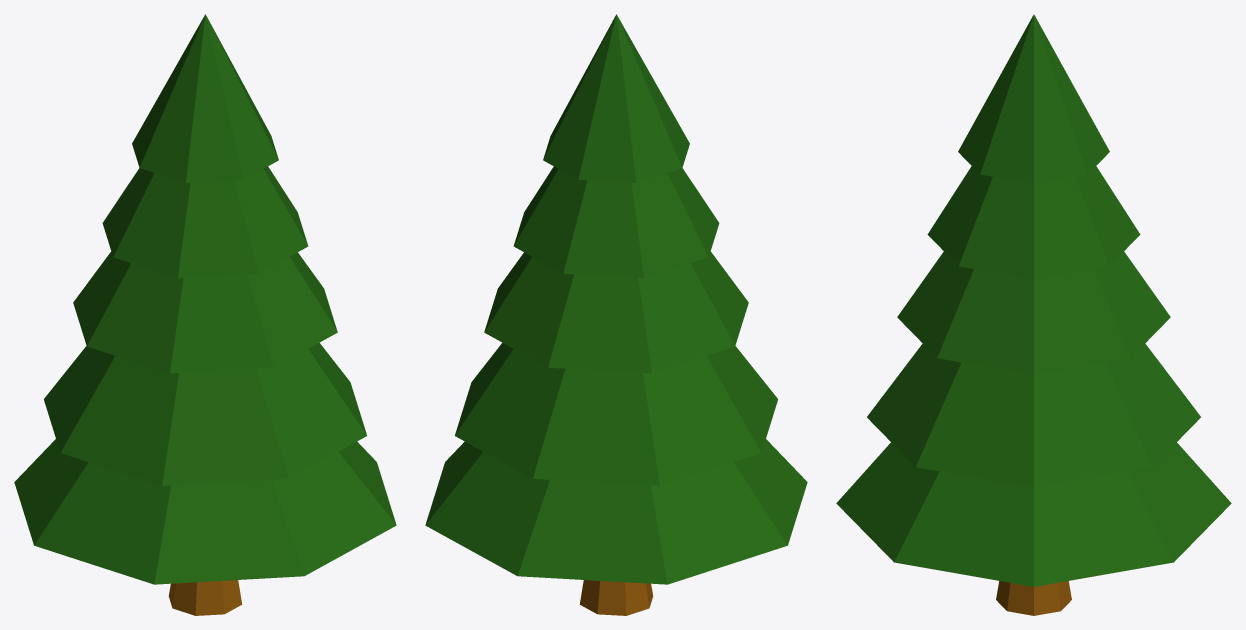
Rendered from tree.glb.
The picture shows the model from 3 angles, left to right: view 1: azimuth 30°, elevation 25°; view 2: azimuth 150°, elevation 25°; view 3: azimuth 270°, elevation 25°; orthographic projection.
Visible parts, largest first — view 1: Cone.004; view 2: Cone.004; view 3: Cone.004.
Part boxes in pixels (x1=…): Cone.004: x1=14, y1=14, x2=396, y2=615; Cone.004: x1=425, y1=14, x2=807, y2=615; Cone.004: x1=836, y1=14, x2=1231, y2=615.
Size of the model in its own units: 5.2 by 8.5 by 5.2.
